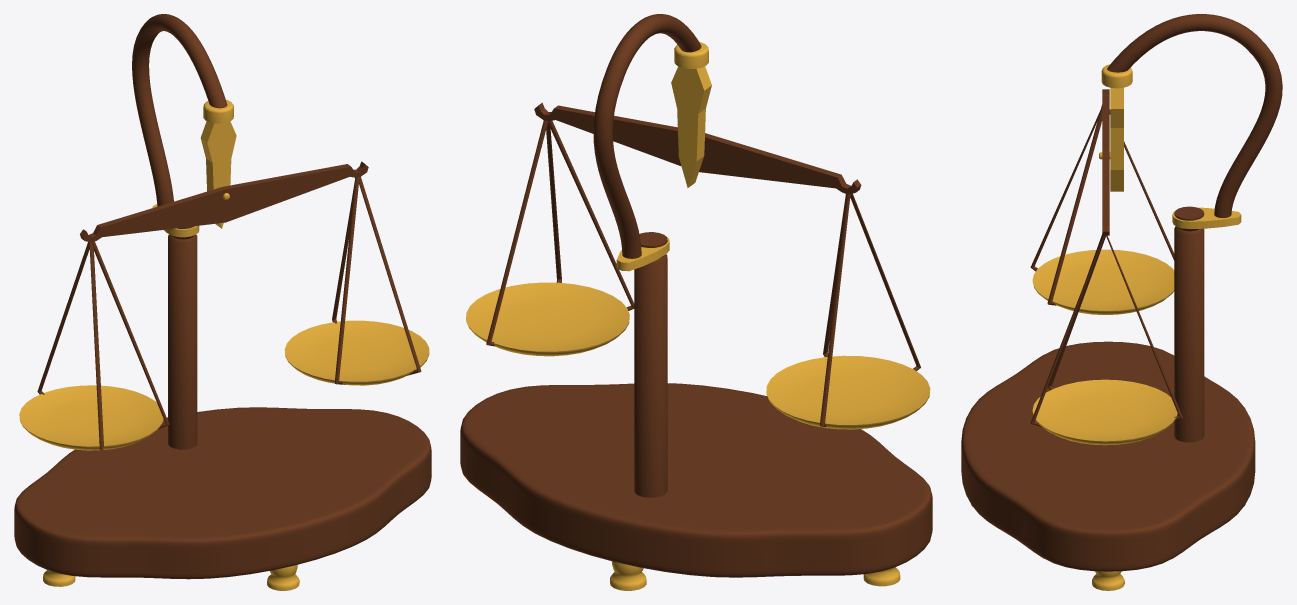
File: Wesi.fbx
3 renders of one model, left to right at view 1: azimuth 30°, elevation 25°; view 2: azimuth 150°, elevation 25°; view 3: azimuth 270°, elevation 25°, orthographic. The views are drawn at different scales.
Visible parts, largest first — view 1: Cube.002; view 2: Cube.002; view 3: Cube.002.
Part boxes in pixels (x1=…): Cube.002: x1=14, y1=14, x2=431, y2=590; Cube.002: x1=460, y1=14, x2=932, y2=590; Cube.002: x1=961, y1=14, x2=1282, y2=590.
Size of the model in its own units: 237 by 281 by 168.
